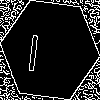I: (25, 25, 43, 72)
